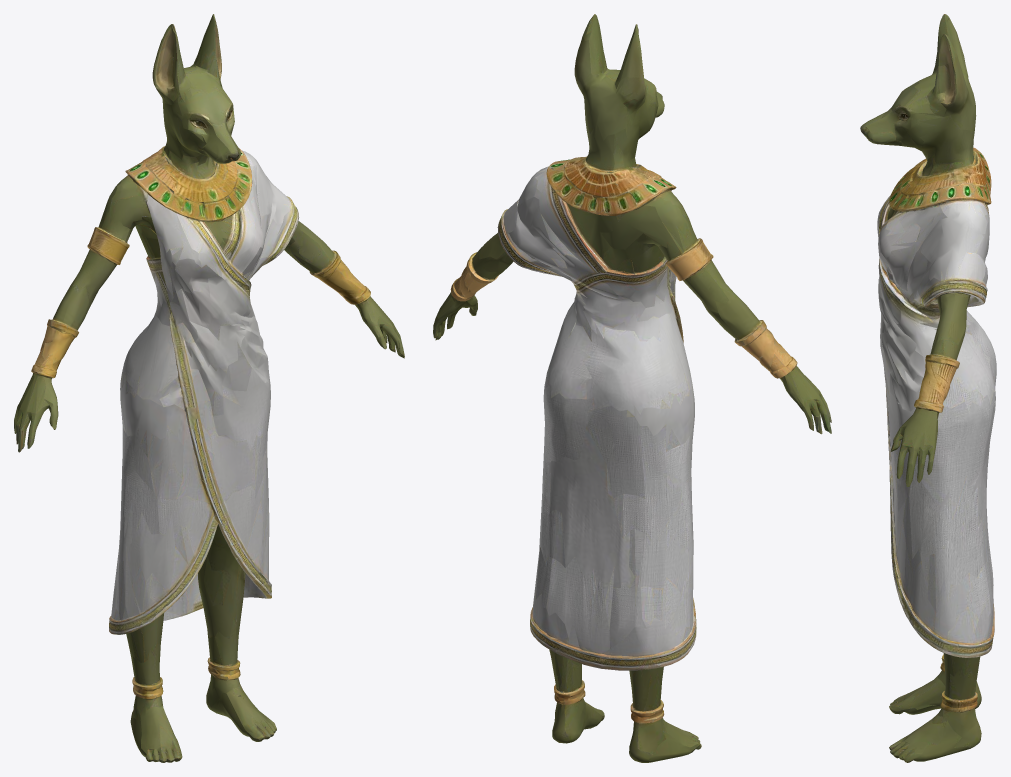
File: et_female.glb
The picture shows the model from 3 angles, left to right: view 1: azimuth 30°, elevation 25°; view 2: azimuth 150°, elevation 25°; view 3: azimuth 270°, elevation 25°; orthographic projection. The views are drawn at different scales.
Bounding box in the file's own units: 1.07 × 1.9 × 0.3307.
1 material, 1 textured.
